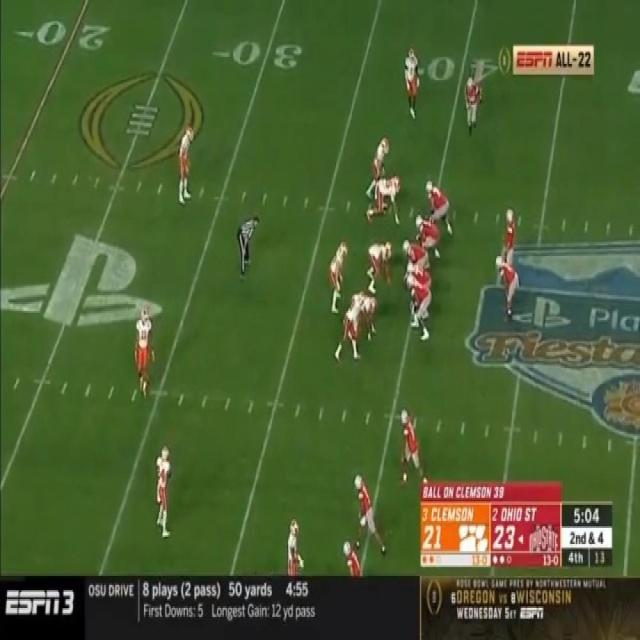center: (400, 238, 423, 272)
db: (152, 444, 175, 537), (135, 302, 155, 395), (403, 44, 422, 118), (180, 126, 193, 203), (286, 520, 303, 572)
lb: (340, 295, 362, 359), (329, 237, 343, 310), (365, 137, 386, 178)
qb: (504, 208, 518, 255)
